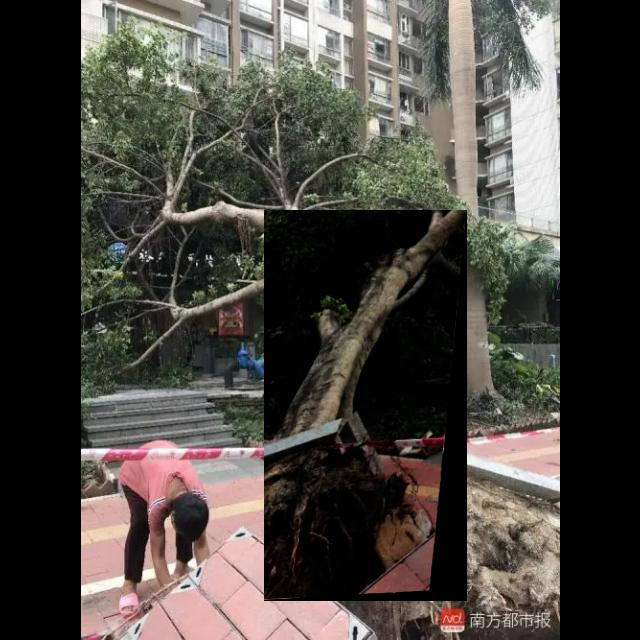Fallen Tree: (264, 210, 468, 602)
